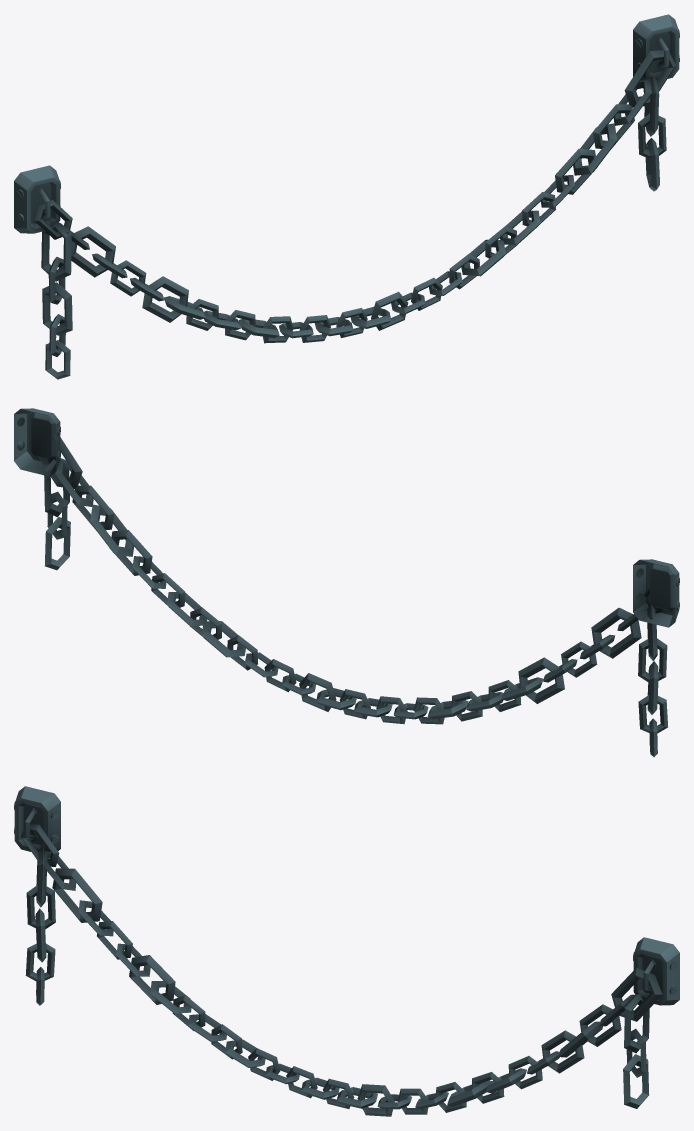
Rendered from obj_chain_arch_A.FBX.
The picture shows the model from 3 angles, top to bottom: view 1: azimuth 30°, elevation 25°; view 2: azimuth 150°, elevation 25°; view 3: azimuth 330°, elevation 25°; orthographic projection.
Visible parts, largest first — view 1: obj_chain_arch_A; view 2: obj_chain_arch_A; view 3: obj_chain_arch_A.
Part boxes in pixels (box(x1,y1,x2,y2)): obj_chain_arch_A: box(14, 14, 679, 379); obj_chain_arch_A: box(14, 408, 679, 757); obj_chain_arch_A: box(14, 786, 679, 1116).
Size of the model in its own units: 5.72 by 1.96 by 0.2871.
